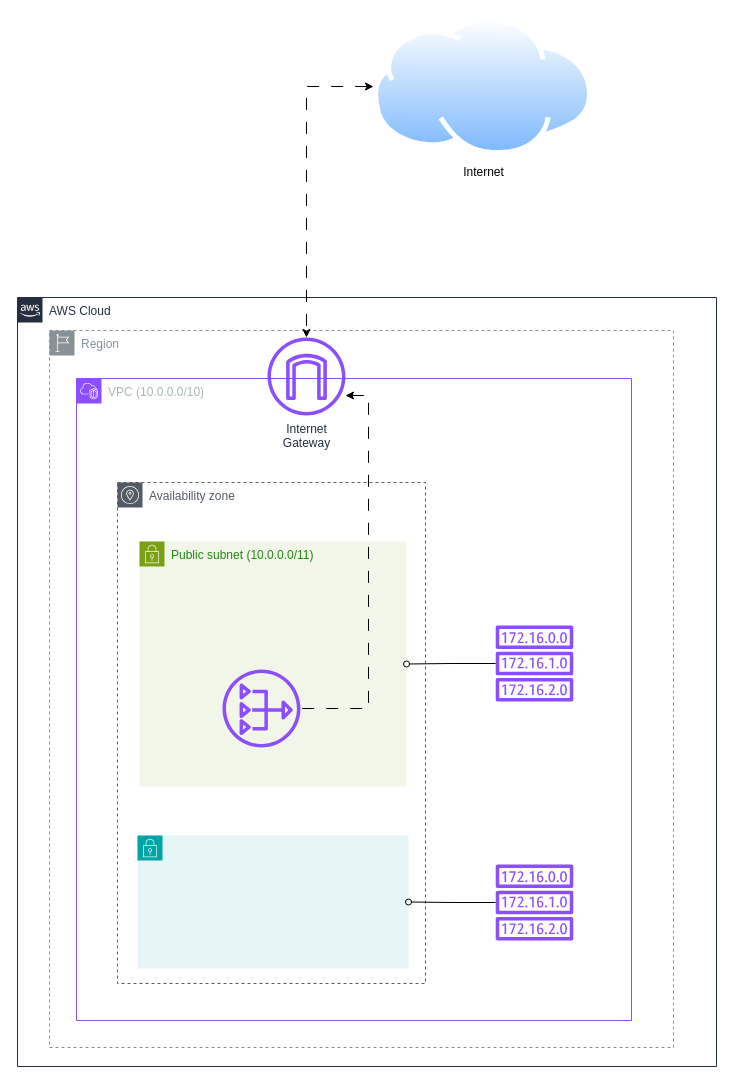
The diagram is 734 pixels wide and 1084 high, and some of its shapes have lost their labels. Here are the shapes that lost their labels. From the top down, the centre of each, then its label:
At point (534, 663): "Public subnet route table".
At point (261, 708): "Private subnet NAT Gateway".
At point (272, 901): "Private subnet (10.32.0.0/11)".
At point (534, 902): "Private subnet route table".
